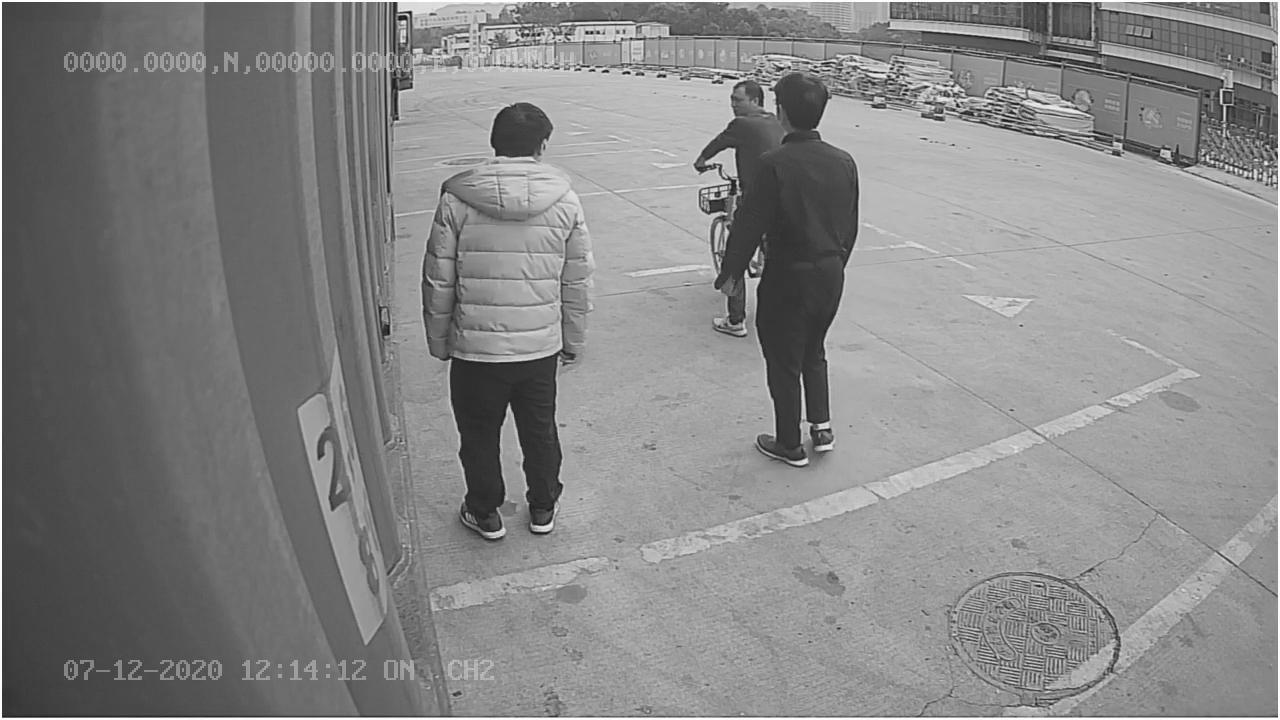person: (423, 96, 597, 543)
